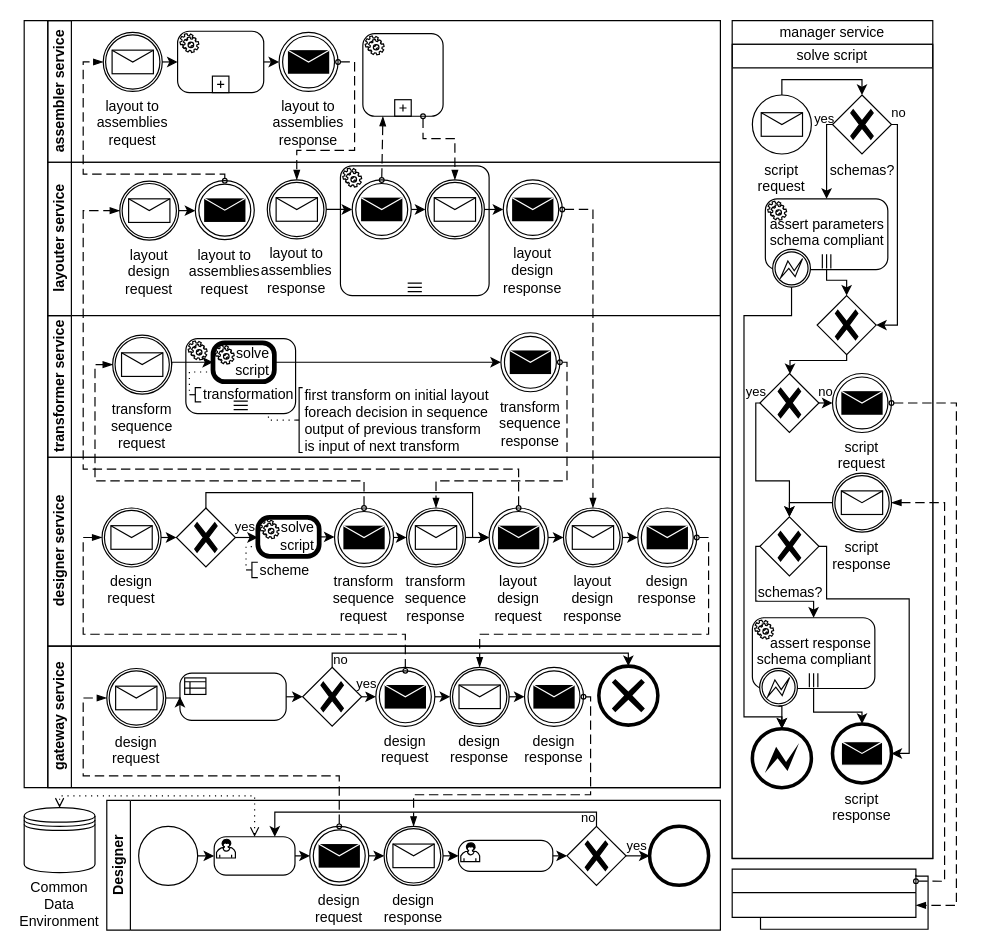
Some shapes in this 986 by 951 pixel diagram are drawn without their labels. The shapes that lost their labels are listed below. From the top down, each one's centre as x and y in pixels, then its label:
At point (220, 61): "layout to assemblies".
At point (402, 74): "compute design assembly".
At point (381, 209): "assembly design request".
At point (454, 209): "assembly design response".
At point (789, 402): "in cache?".
At point (205, 537): "scheme plan?".
At point (232, 696): "check user authentication".
At point (331, 696): "authorized?".
At point (628, 695): "design request denied".
At point (781, 757): "not schema compiant".
At point (167, 855): "starts designing".
At point (254, 855): "designs".
At point (505, 855): "evaluates".
At point (596, 855): "satisfied?".
At point (678, 855): "ends designing".
At point (823, 892): "ADAPTER".
